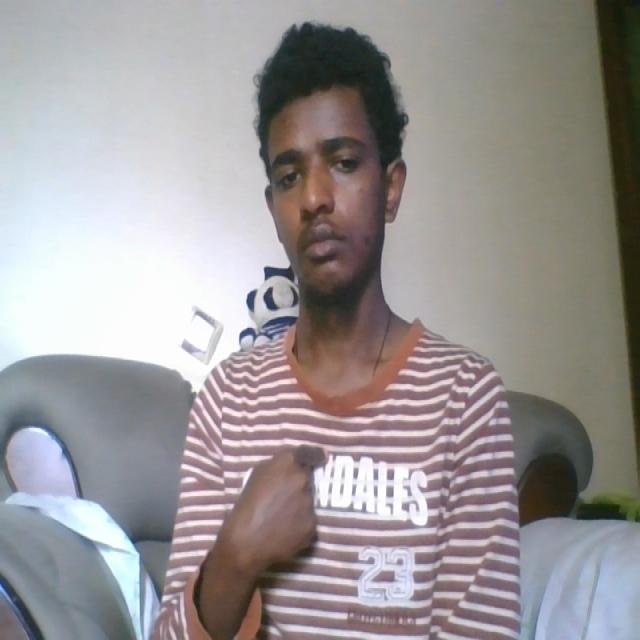ene: (216, 434, 333, 587)
